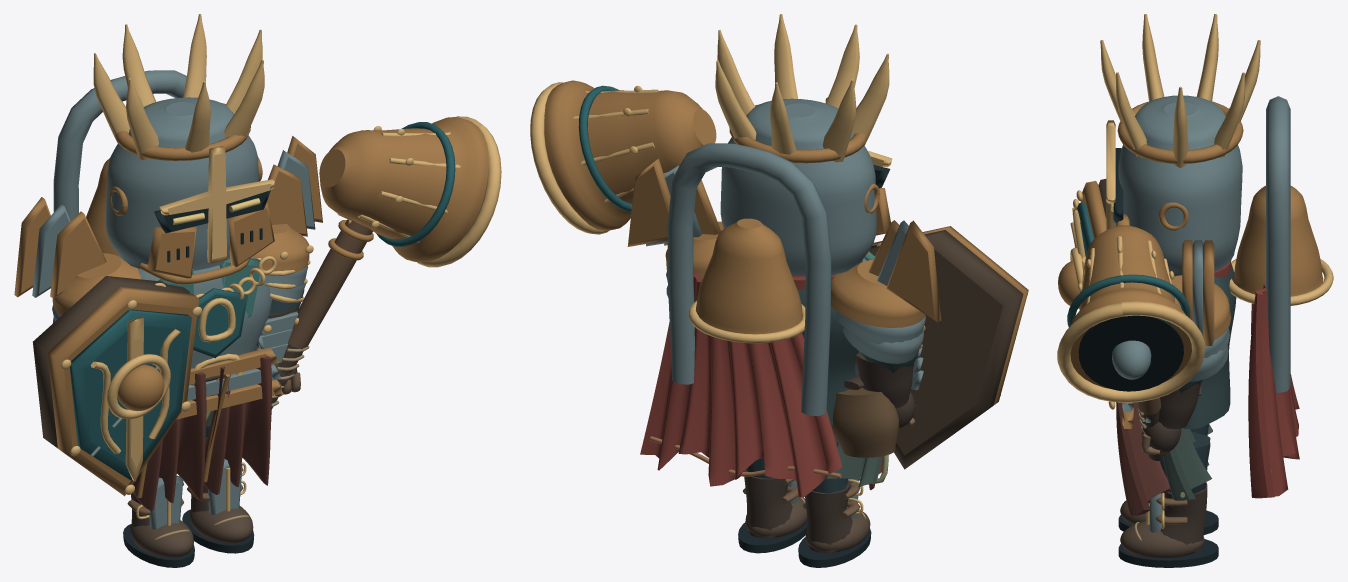
File: Enemy4.obj
3 views of the same model, side by side, from view 1: azimuth 30°, elevation 25°; view 2: azimuth 150°, elevation 25°; view 3: azimuth 270°, elevation 25° (orthographic).
Parts seen in each view (by area): view 1: Enemy4(Clone)__Rig__Body__ArmL__Sculpt_render, Enemy4(Clone)__Rig__Body__Head__Sculpt_render, Enemy4(Clone)__Rig__Body__ArmR__Forearm__Sculpt_render, Enemy4(Clone)__Rig__Body__Sculpt_render, Enemy4(Clone)__Rig__Body__ArmR__Sculpt_render, Enemy4(Clone)__Rig__LegL__Shin__Sculpt_render, Enemy4(Clone)__Rig__LegR__Shin__Sculpt_render; view 2: Enemy4(Clone)__Rig__Body__Sculpt_render, Enemy4(Clone)__Rig__Body__ArmL__Sculpt_render, Enemy4(Clone)__Rig__Body__Head__Sculpt_render, Enemy4(Clone)__Rig__Body__ScarfTail__Sculpt_render, Enemy4(Clone)__Rig__Body__ArmR__Forearm__Sculpt_render, Enemy4(Clone)__Rig__Body__ArmR__Sculpt_render, Enemy4(Clone)__Rig__LegL__Shin__Sculpt_render, Enemy4(Clone)__Rig__LegR__Shin__Sculpt_render, Enemy4(Clone)__Rig__Body__ArmL__Forearm__Sculpt_render; view 3: Enemy4(Clone)__Rig__Body__Head__Sculpt_render, Enemy4(Clone)__Rig__Body__ArmR__Forearm__Sculpt_render, Enemy4(Clone)__Rig__Body__Sculpt_render, Enemy4(Clone)__Rig__Body__ScarfTail__Sculpt_render, Enemy4(Clone)__Rig__LegR__Shin__Sculpt_render, Enemy4(Clone)__Rig__Body__ArmR__Sculpt_render, Enemy4(Clone)__Rig__Body__ArmL__Sculpt_render, Enemy4(Clone)__Rig__LegL__Shin__Sculpt_render, Enemy4(Clone)__Rig__LegR__Sculpt_render.
Part boxes in pixels (x1,y1,x2,y2): Enemy4(Clone)__Rig__Body__ArmL__Sculpt_render: (14,197,201,496); Enemy4(Clone)__Rig__Body__Head__Sculpt_render: (93,14,274,284); Enemy4(Clone)__Rig__Body__ArmR__Forearm__Sculpt_render: (256,116,501,409); Enemy4(Clone)__Rig__Body__Sculpt_render: (53,70,282,510); Enemy4(Clone)__Rig__Body__ArmR__Sculpt_render: (253,136,322,314); Enemy4(Clone)__Rig__LegL__Shin__Sculpt_render: (123,475,194,567); Enemy4(Clone)__Rig__LegR__Shin__Sculpt_render: (182,459,254,553); Enemy4(Clone)__Rig__Body__Sculpt_render: (667,143,898,489); Enemy4(Clone)__Rig__Body__ArmL__Sculpt_render: (831,220,1028,469); Enemy4(Clone)__Rig__Body__Head__Sculpt_render: (715,14,892,276); Enemy4(Clone)__Rig__Body__ScarfTail__Sculpt_render: (640,274,842,497); Enemy4(Clone)__Rig__Body__ArmR__Forearm__Sculpt_render: (530,80,716,234); Enemy4(Clone)__Rig__Body__ArmR__Sculpt_render: (627,158,723,298); Enemy4(Clone)__Rig__LegL__Shin__Sculpt_render: (798,478,871,567); Enemy4(Clone)__Rig__LegR__Shin__Sculpt_render: (738,469,806,553); Enemy4(Clone)__Rig__Body__ArmL__Forearm__Sculpt_render: (856,344,923,428); Enemy4(Clone)__Rig__Body__Head__Sculpt_render: (1100,14,1260,276); Enemy4(Clone)__Rig__Body__ArmR__Forearm__Sculpt_render: (1057,225,1205,460); Enemy4(Clone)__Rig__Body__Sculpt_render: (1116,96,1333,515); Enemy4(Clone)__Rig__Body__ScarfTail__Sculpt_render: (1248,283,1299,498); Enemy4(Clone)__Rig__LegR__Shin__Sculpt_render: (1118,483,1218,567); Enemy4(Clone)__Rig__Body__ArmR__Sculpt_render: (1171,240,1231,392); Enemy4(Clone)__Rig__Body__ArmL__Sculpt_render: (1058,179,1116,409); Enemy4(Clone)__Rig__LegL__Shin__Sculpt_render: (1118,500,1218,534); Enemy4(Clone)__Rig__LegR__Sculpt_render: (1160,432,1210,493).
Bounding box in the file's own units: 4.08 × 4.17 × 2.12.
